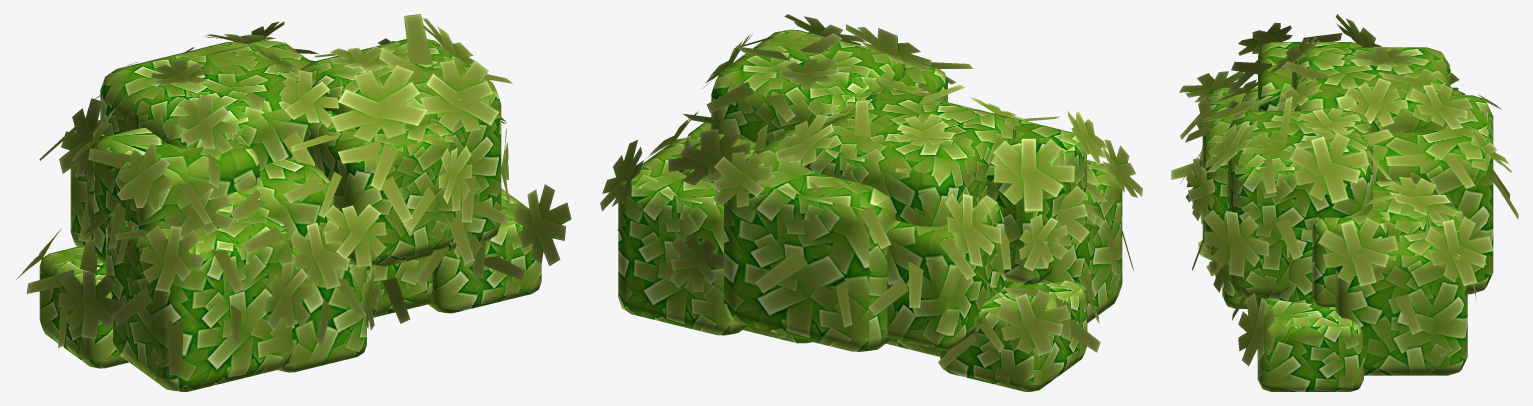
The model's file is SM_Bush_01_D.fbx.
3 views of the same model, side by side, from view 1: azimuth 30°, elevation 25°; view 2: azimuth 150°, elevation 25°; view 3: azimuth 270°, elevation 25° (orthographic). The views are drawn at different scales.
Parts seen in each view (by area): view 1: polySurface624; view 2: polySurface624; view 3: polySurface624.
Part boxes in pixels (<box>): polySurface624: <box>15,14,571,391</box>; polySurface624: <box>600,14,1142,391</box>; polySurface624: <box>1171,14,1518,391</box>.
Size of the model in its own units: 110 by 59.45 by 78.32.
